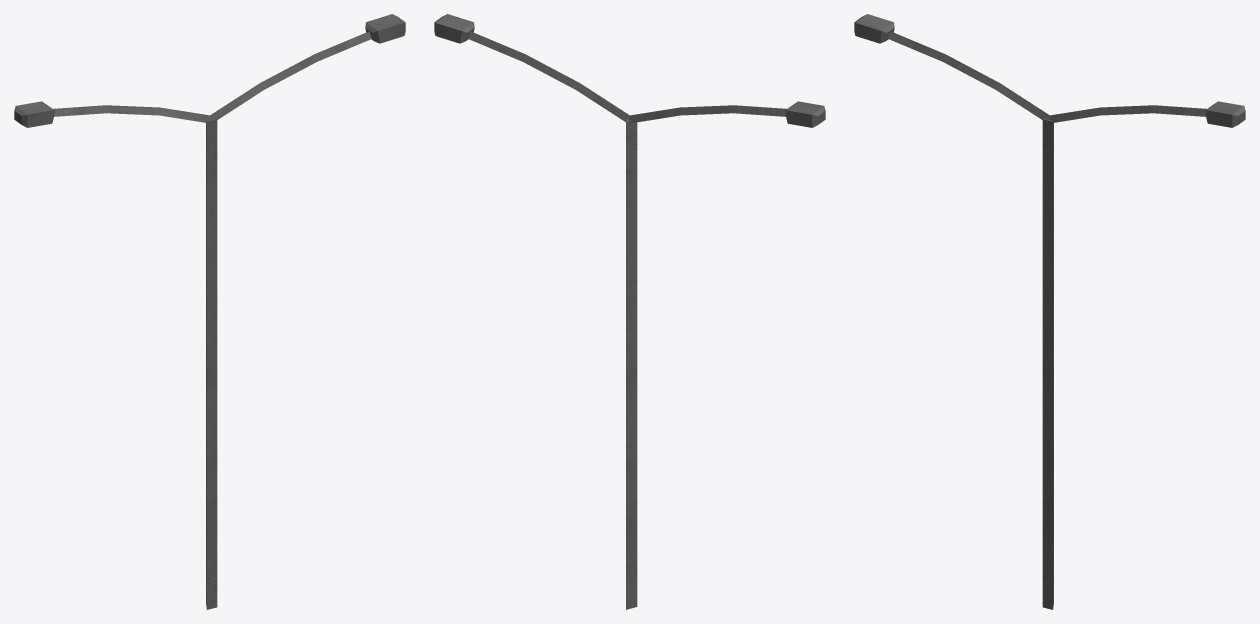
File: lamp_pole_dual.fbx
The picture shows the model from 3 angles, left to right: view 1: azimuth 30°, elevation 25°; view 2: azimuth 150°, elevation 25°; view 3: azimuth 330°, elevation 25°; orthographic projection.
Visible parts, largest first — view 1: lamp_pole_dual; view 2: lamp_pole_dual; view 3: lamp_pole_dual.
Boxes of the visible parts, box(x1,y1,x2,y2) form: lamp_pole_dual: box(14, 14, 405, 609); lamp_pole_dual: box(434, 14, 825, 609); lamp_pole_dual: box(854, 14, 1245, 609).
Size of the model in its own units: 733 by 990 by 40.22.
